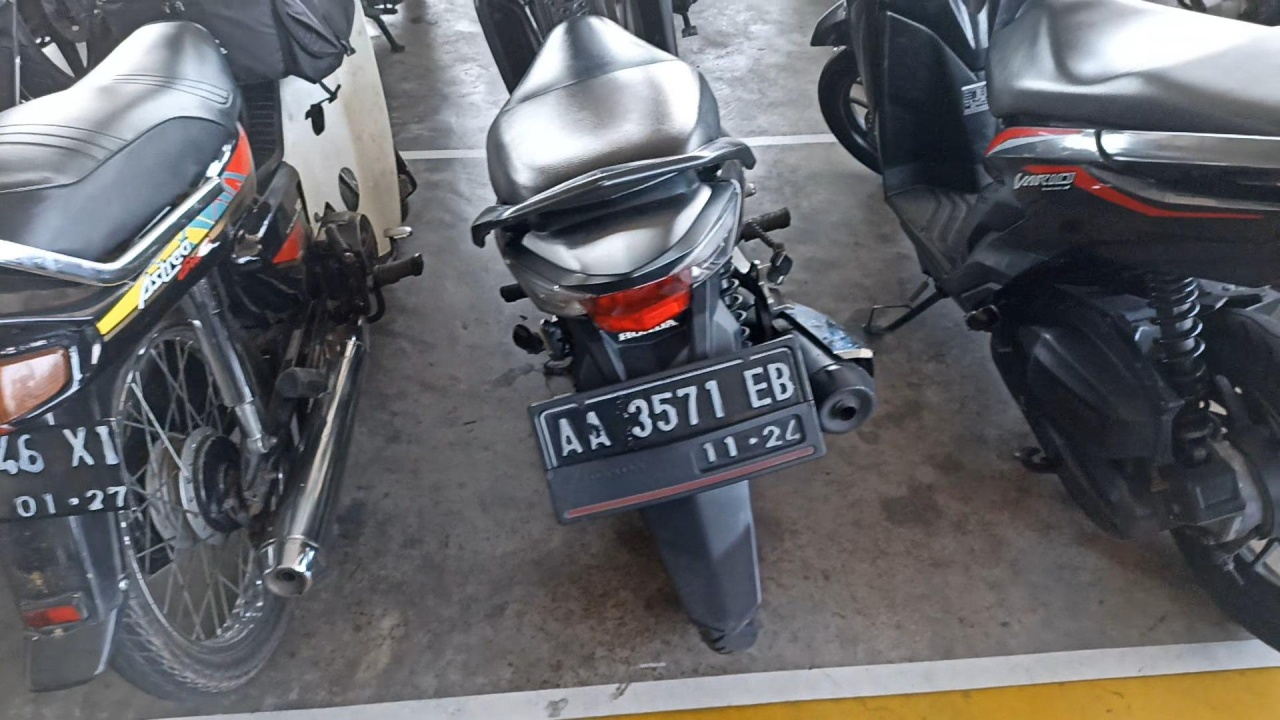plate: (534, 341, 825, 522)
